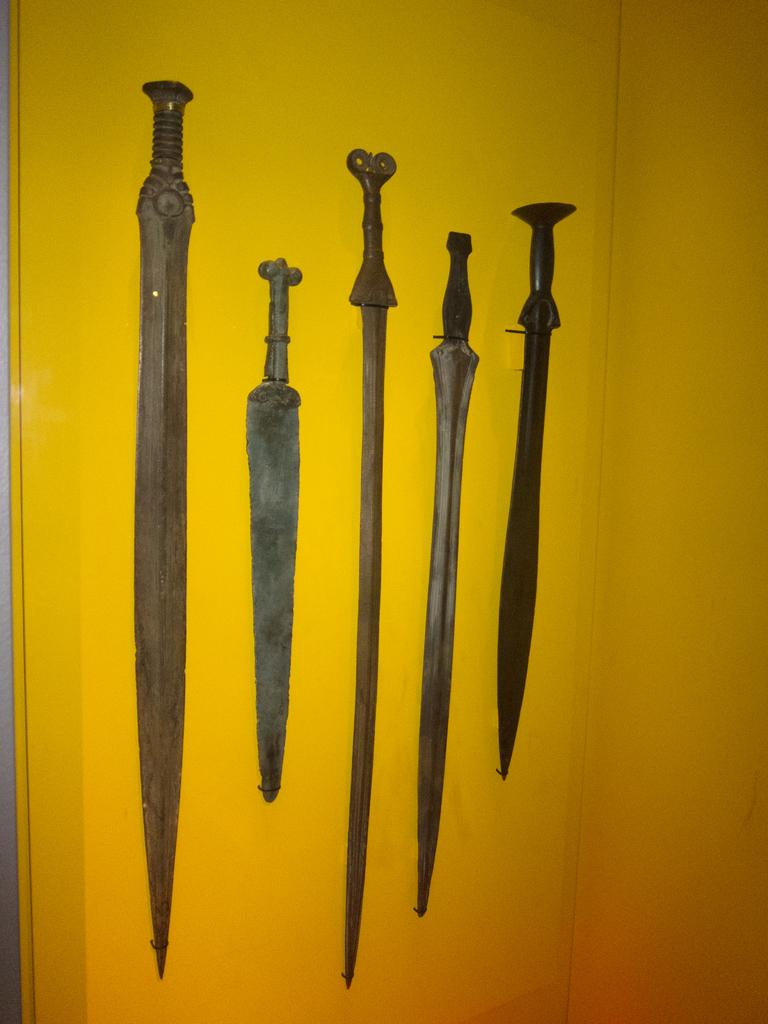Sword: (315, 151, 412, 994), (450, 204, 576, 791), (131, 77, 198, 986), (399, 228, 484, 924), (254, 259, 308, 798)
